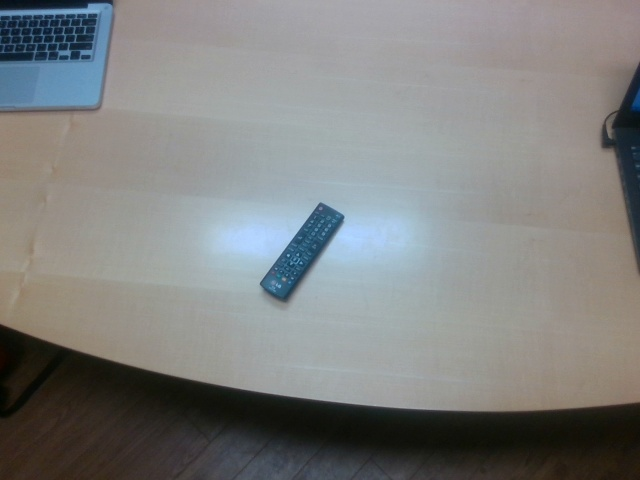remote: (260, 202, 346, 303)
